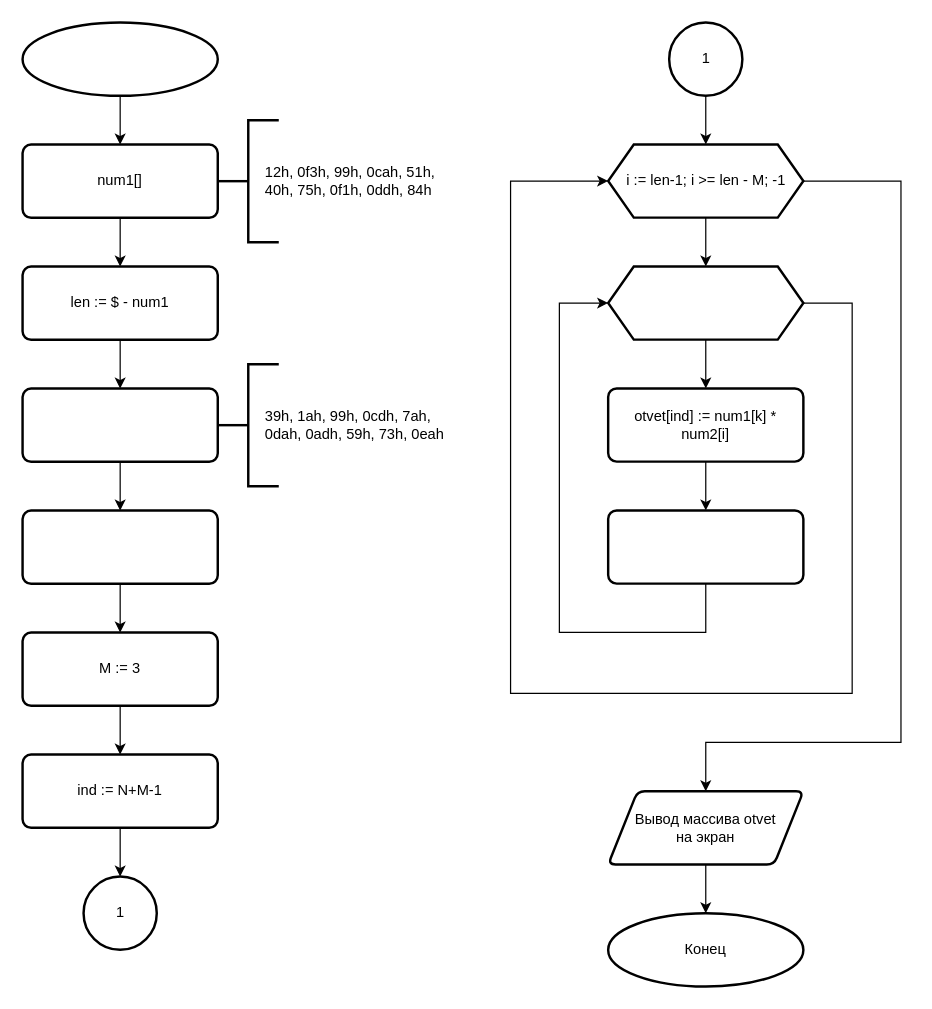
Some shapes in this 932 by 1009 pixel diagram are drawn without their labels. The shapes that lost their labels are listed below. From the top down, each one's box as (x1, y1, x2, y2) in pixels, then its label:
(21, 21, 218, 96): Начало
(606, 265, 804, 340): k := len-1; k >= len - N; -1
(21, 387, 218, 462): num2[]
(21, 509, 218, 584): N := 5
(606, 509, 804, 584): ind := ind - 1
